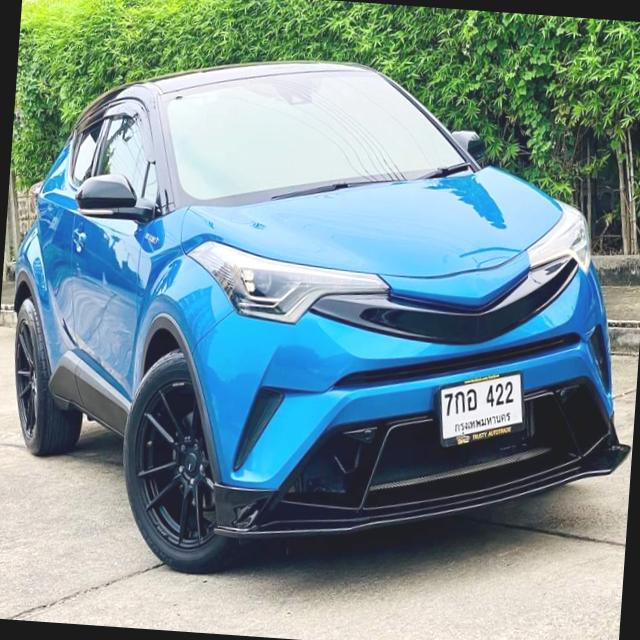license_plate: (431, 362, 530, 457)
